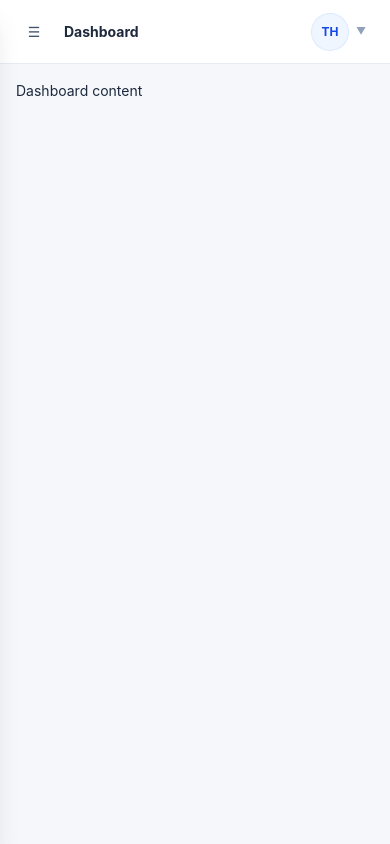
AppLayout › opens and closes the mobile sidebar
Later steps or results of the test are not shown.
Click the button named "Open navigation": (34, 32) [16,14,52,50]
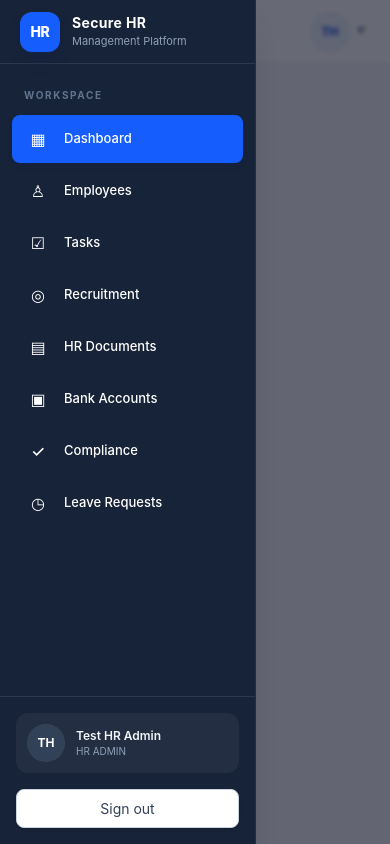
Now the button named "Close navigation" is shown
